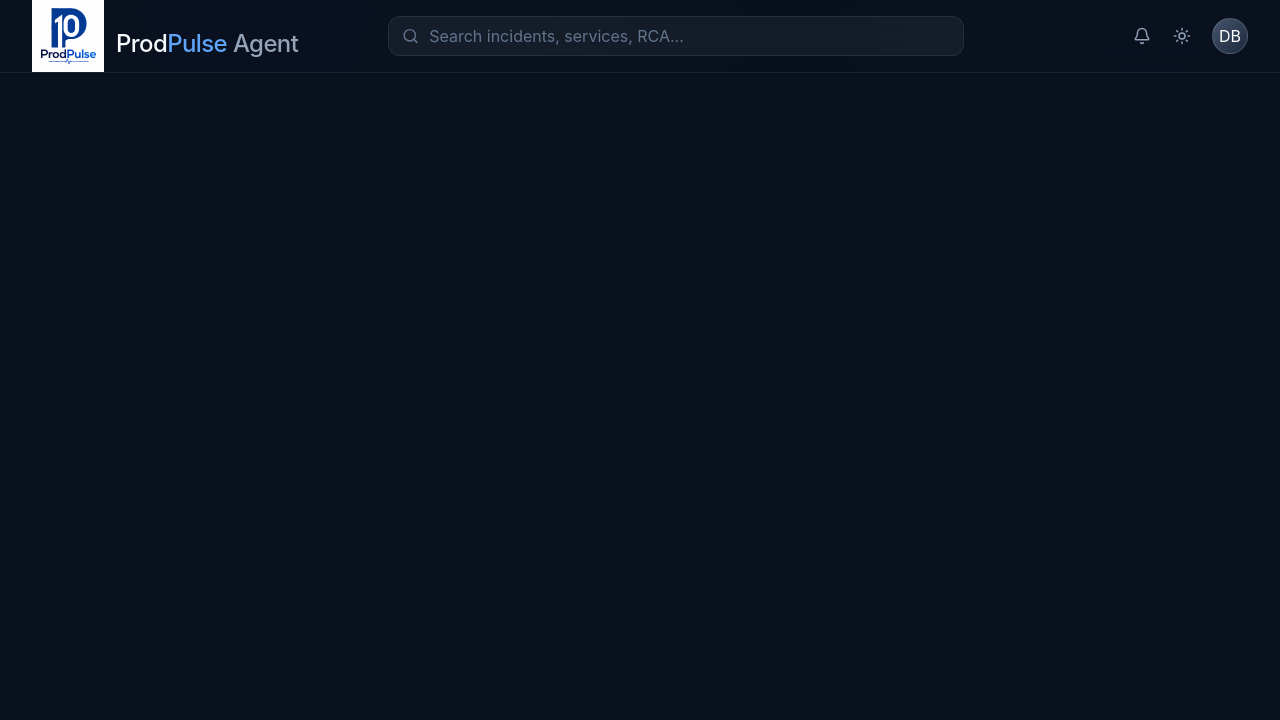
Test: Header search › switches between dark and light themes
This screenshot has width=1280, height=720.
Click the button named "Switch to light theme": (1182, 36) top-left (1164, 18), bottom-right (1200, 54)
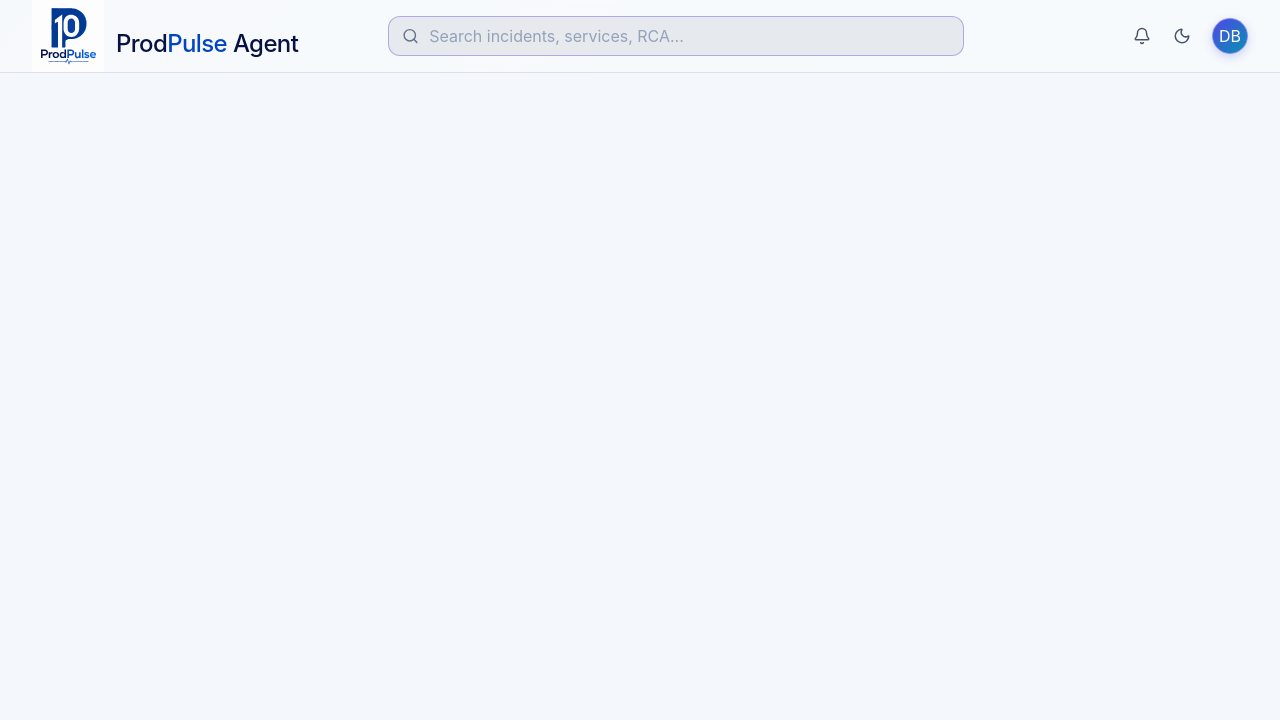
Result: the button named "Switch to dark theme" is shown at top-left (1164, 18), bottom-right (1200, 54)
